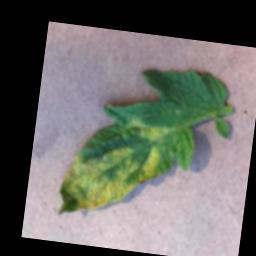Leaf_Mold: (58, 114, 180, 228)
